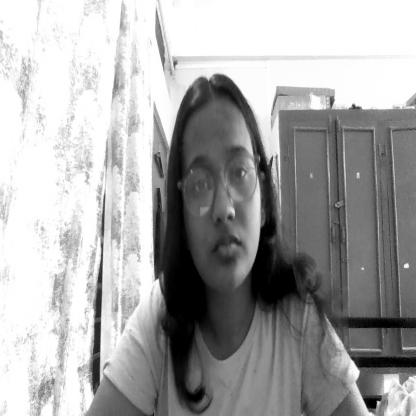Normal: (174, 81, 265, 287)
